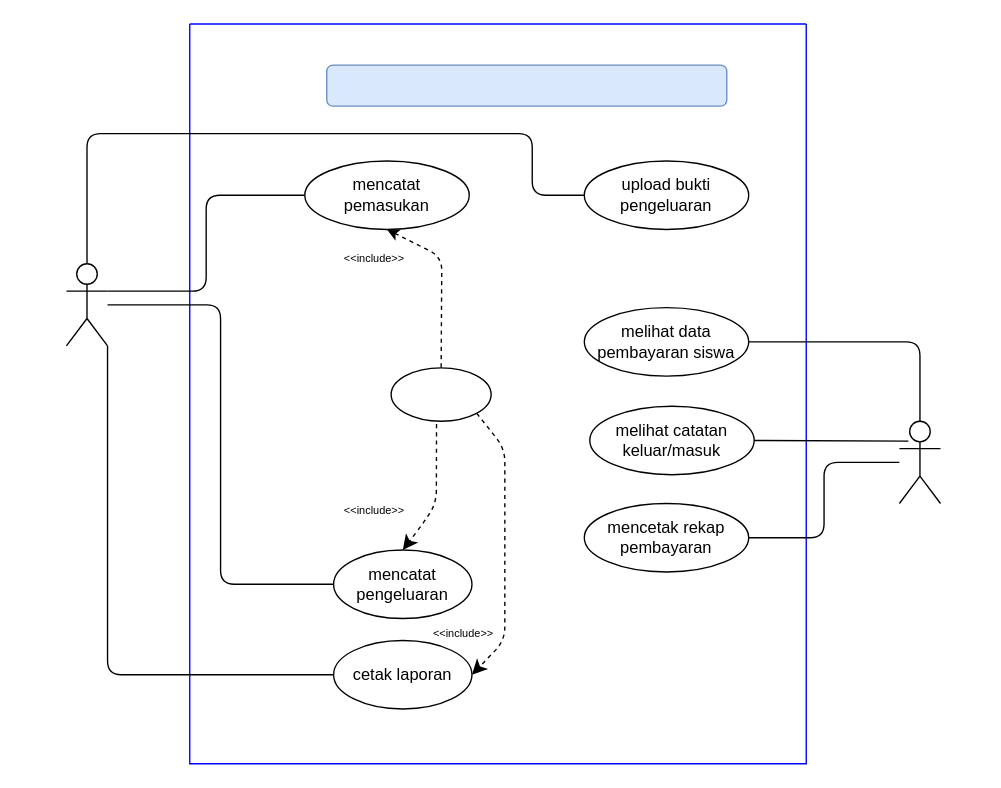
The diagram is 1001 pixels wide and 788 high, and some of its shapes have lost their labels. The shapes that lost their labels are listed below. From the top down, each one's centre as x and y in pixels, then its label:
At point (526, 85): "Aplikasi Web Iuran Komite Kelas B3".
At point (86, 304): "admin/bendahara".
At point (440, 393): "login".
At point (919, 461): "orang tua siswa".
